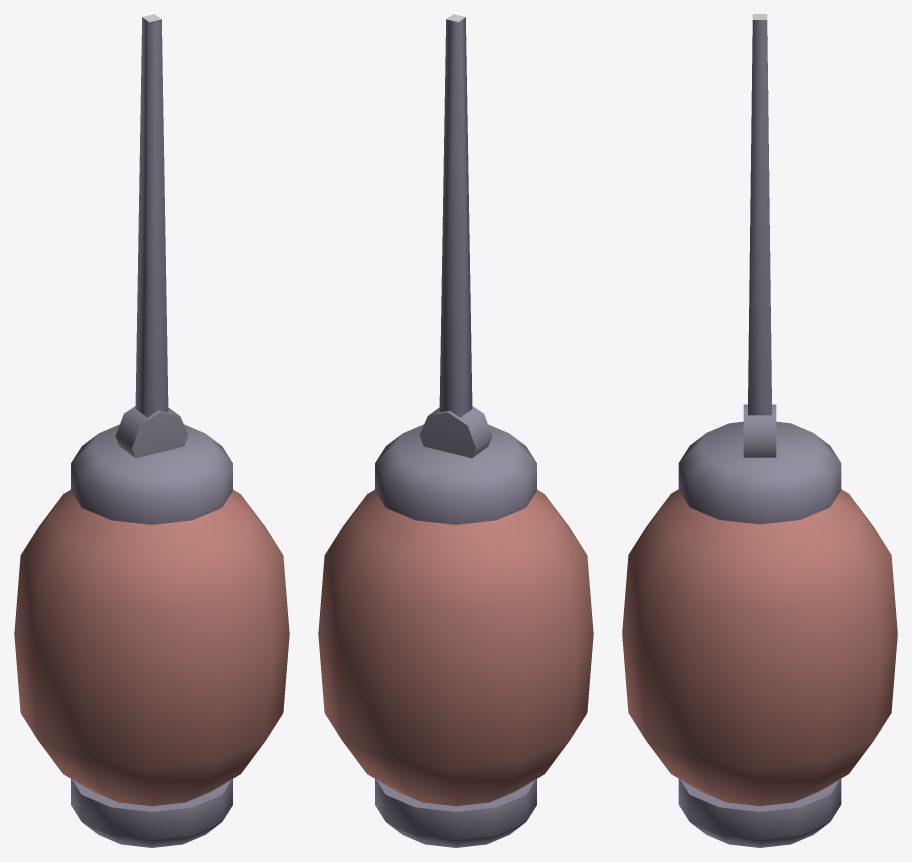
Rendered from lamp-lantern-hanging-paper (%ceiling).glb.
The picture shows the model from 3 angles, left to right: view 1: azimuth 30°, elevation 25°; view 2: azimuth 150°, elevation 25°; view 3: azimuth 270°, elevation 25°; orthographic projection.
Visible parts, largest first — view 1: lamp-lantern-hanging-paper (%ceiling); view 2: lamp-lantern-hanging-paper (%ceiling); view 3: lamp-lantern-hanging-paper (%ceiling).
Part boxes in pixels (x1,y1,x2,y2): lamp-lantern-hanging-paper (%ceiling): (14, 14, 289, 847); lamp-lantern-hanging-paper (%ceiling): (318, 14, 593, 847); lamp-lantern-hanging-paper (%ceiling): (622, 14, 897, 847).
Bounding box in the file's own units: 0.286 × 0.9212 × 0.286.
